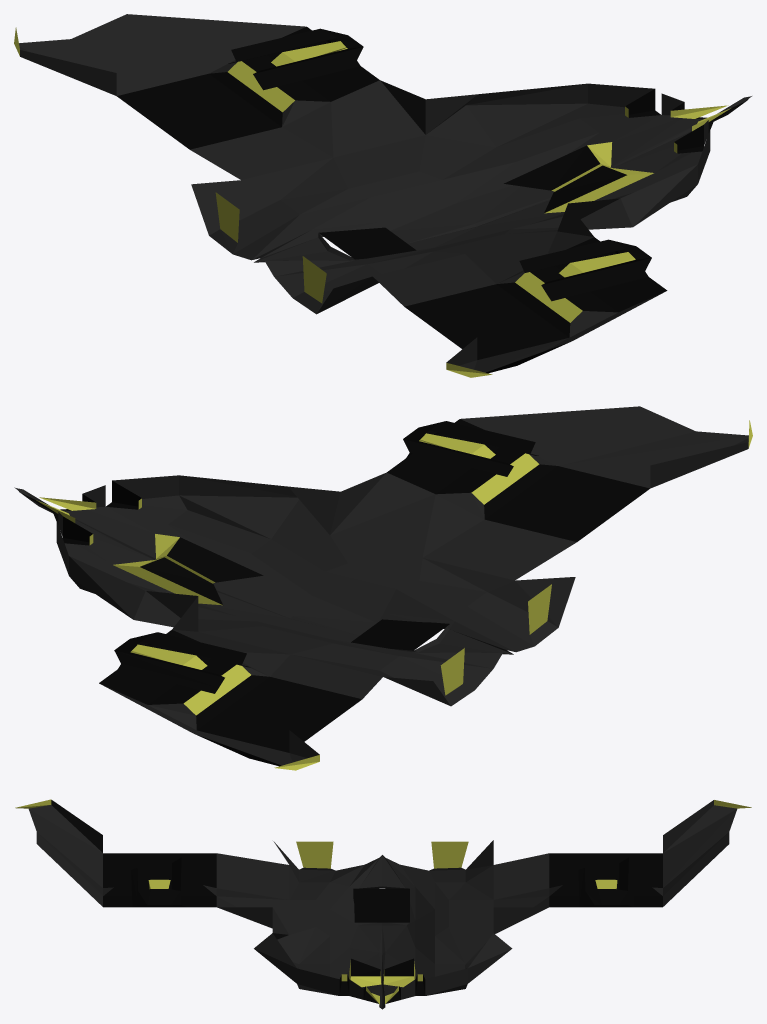
File: BomberTopPlaneAdded.fbx
3 renders of one model, top to bottom at view 1: azimuth 30°, elevation 25°; view 2: azimuth 150°, elevation 25°; view 3: azimuth 270°, elevation 25°, orthographic. The views are drawn at different scales.
Parts seen in each view (by area): view 1: pCube1; view 2: pCube1; view 3: pCube1.
Part boxes in pixels (x1=…): pCube1: x1=14, y1=14, x2=751, y2=377; pCube1: x1=14, y1=406, x2=752, y2=770; pCube1: x1=15, y1=799, x2=751, y2=1009.
Size of the model in its own units: 15.3 by 2.37 by 24.25.
